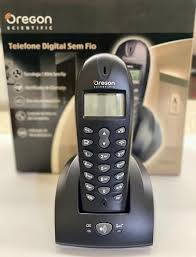telephone: (73, 50, 136, 217)
